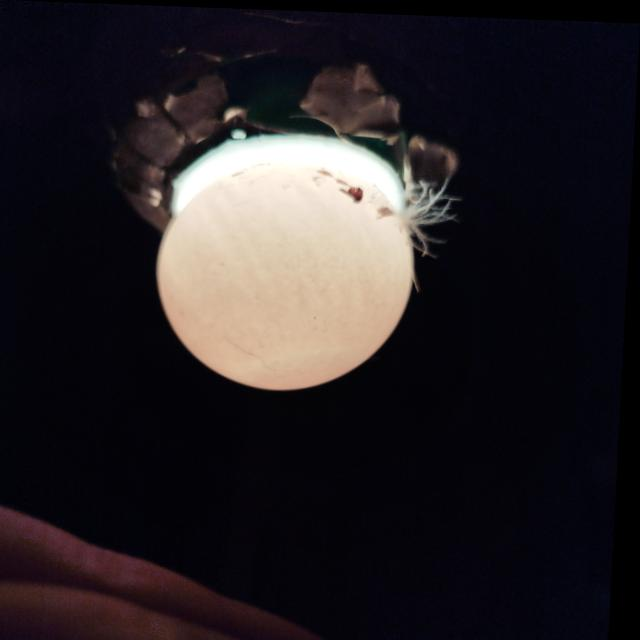Camara de Ar: (228, 345, 383, 387)
